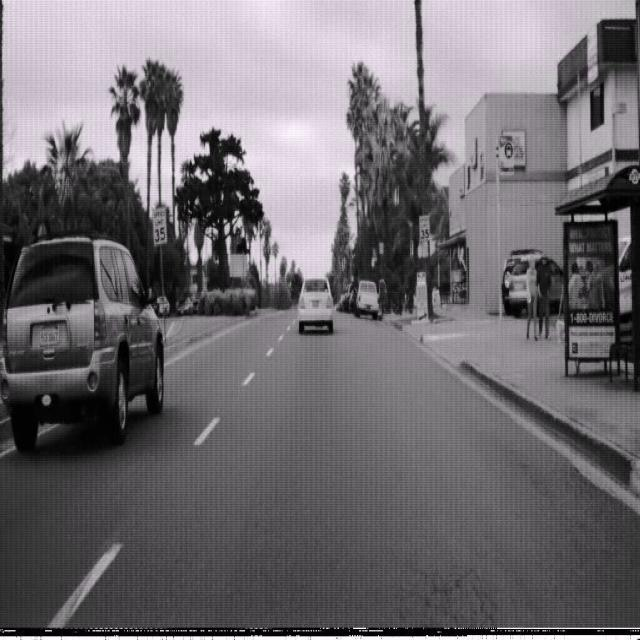speedLimit35: (152, 205, 167, 246), (418, 214, 431, 242)
